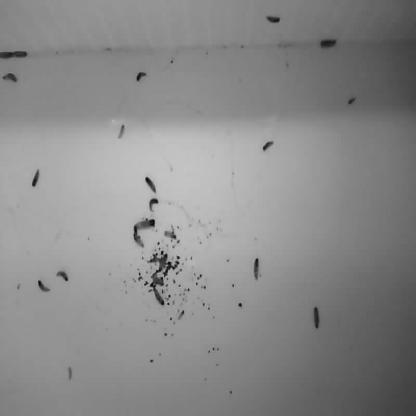PtecticusTenebrifer: (320, 37, 338, 51), (144, 176, 157, 194), (154, 286, 165, 306), (38, 278, 51, 294), (3, 71, 17, 85), (134, 219, 155, 228), (133, 230, 144, 247), (0, 48, 13, 61), (261, 140, 275, 152), (14, 49, 29, 60), (266, 15, 282, 25), (57, 271, 69, 284), (136, 70, 148, 82), (32, 168, 40, 186), (314, 306, 320, 330), (148, 198, 158, 212), (254, 259, 260, 282), (117, 123, 125, 140), (165, 231, 177, 241)
